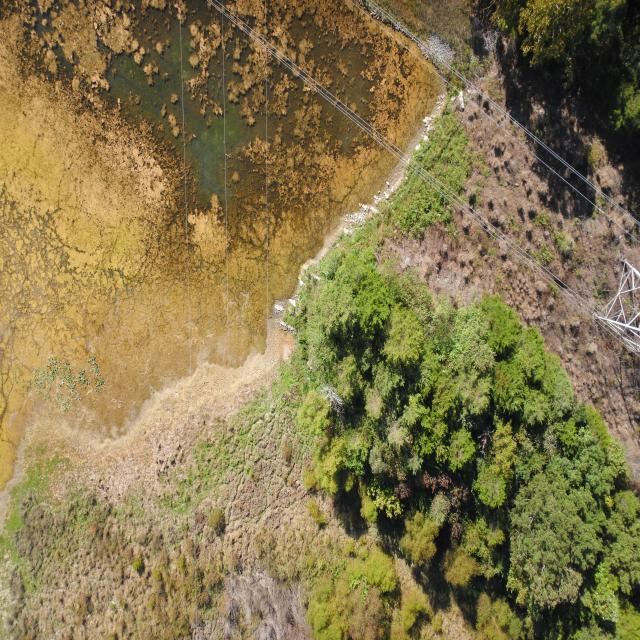Area of Interest: (303, 272, 636, 636)
